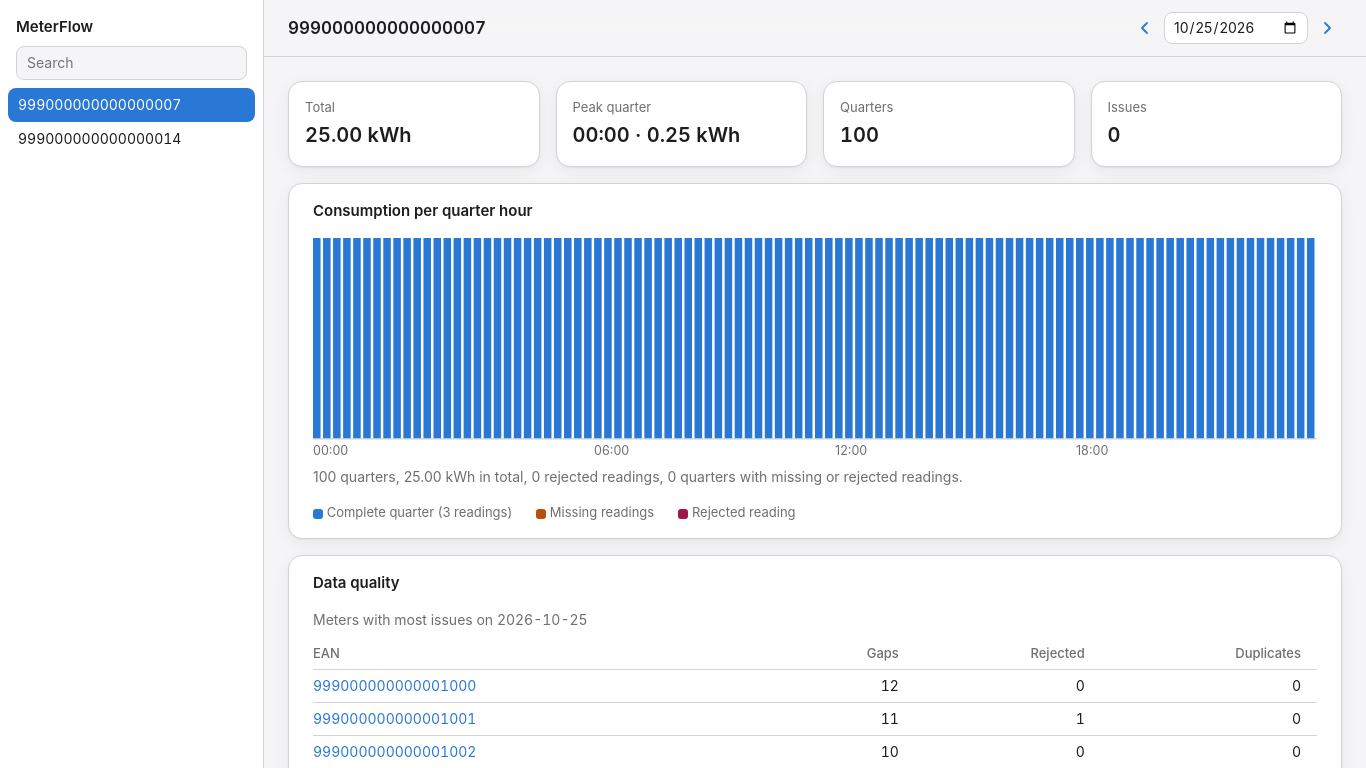
Test: App › refetches the day when the meter changes
Expected: the icon named "100 quarters" is shown, [313,238,1317,459]
Click the button "999000000000000014". click: coordinates (132, 139)
box: [8,122,255,157]
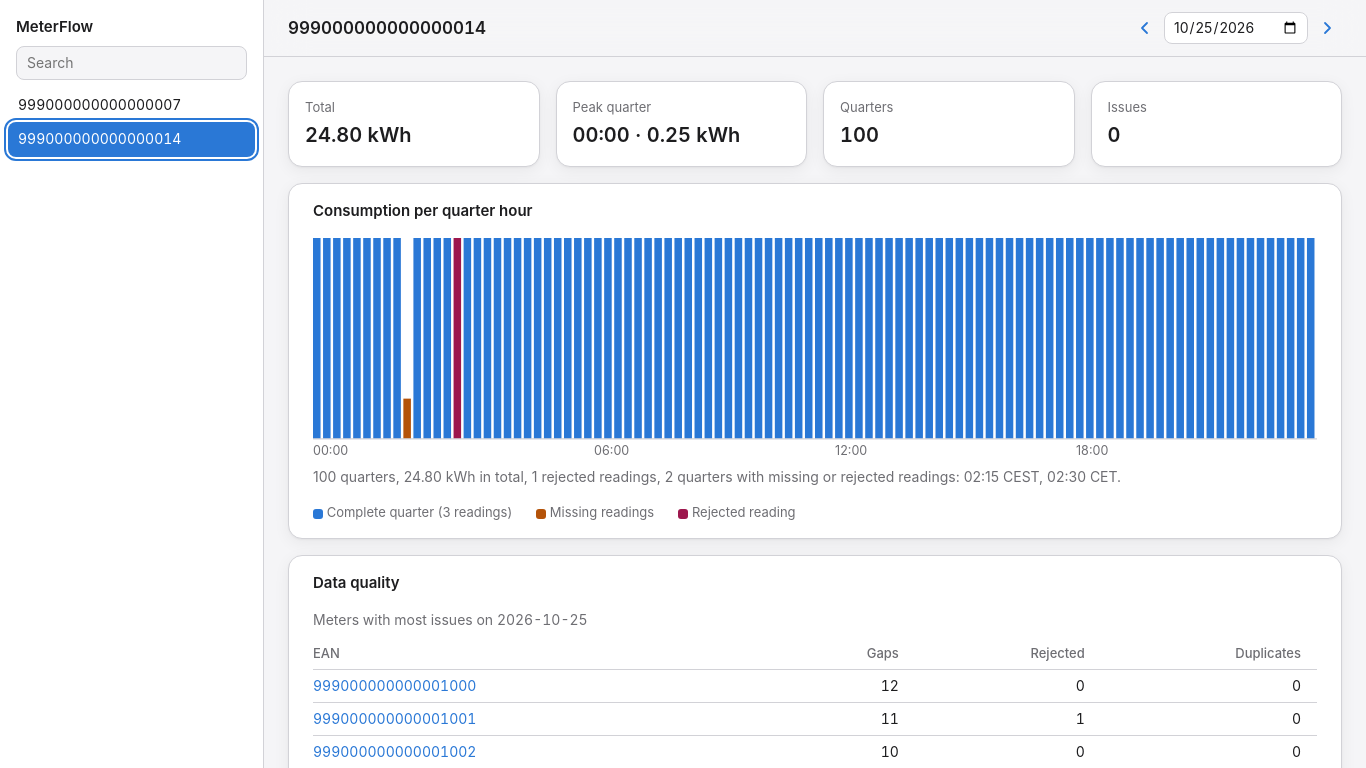
Now the text "2 quarters with missing or rejected readings" is shown, box [313,468,1121,485]
